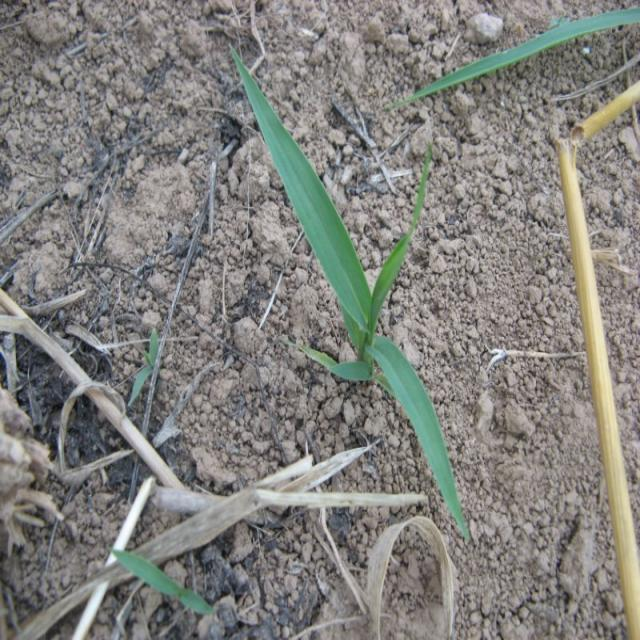bg: (230, 40, 477, 538)
